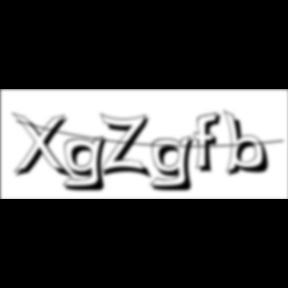X: (11, 112, 75, 182)
Z: (100, 112, 154, 181)
b: (222, 109, 276, 179)
f: (194, 111, 226, 175)
g: (63, 134, 115, 194), (150, 134, 202, 194)
